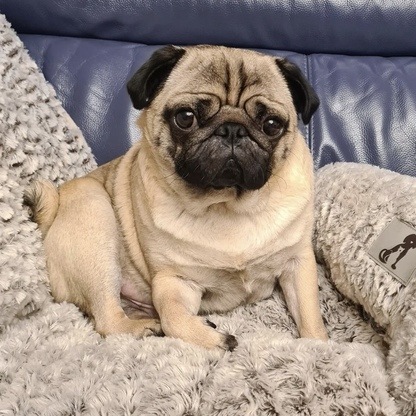Pug: (20, 37, 335, 354)
